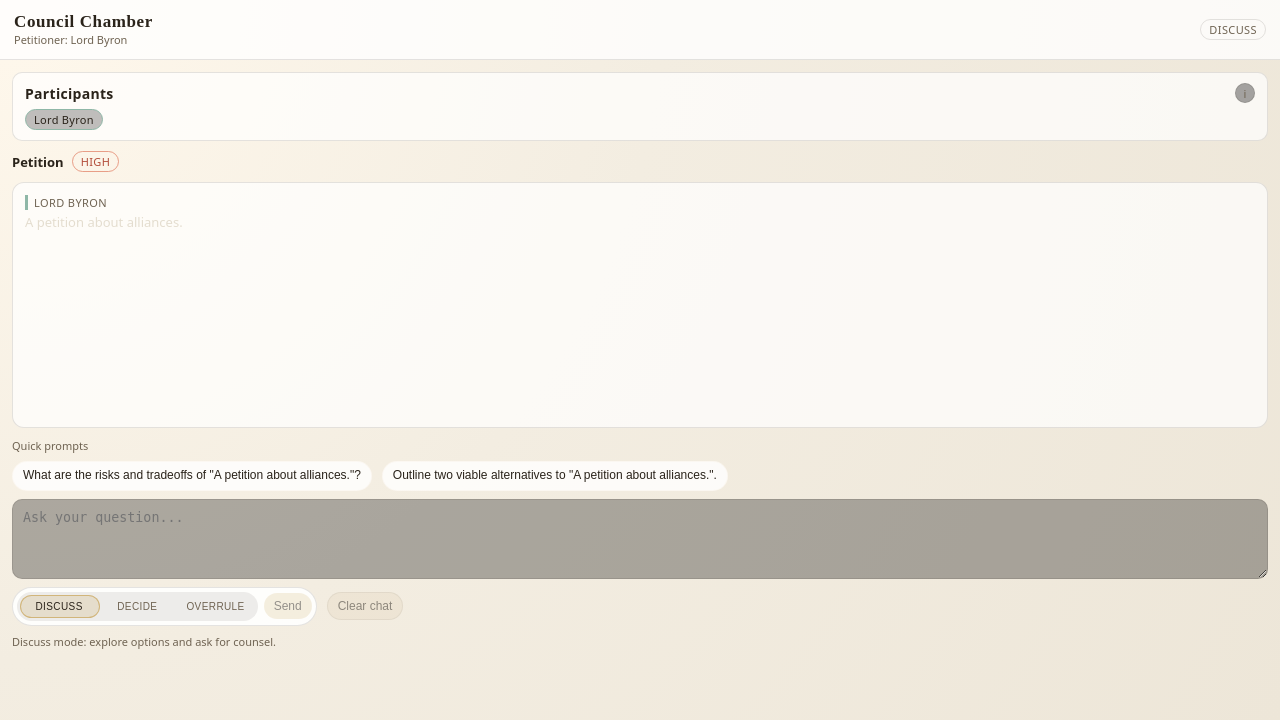
Scenario: ChatPanel › clears the chat back to the petition message
Expected: the heading "Council Chamber" is shown, [14,12,153,32]
In the text box: (640, 539) [12,499,1268,579], type "We should proceed."
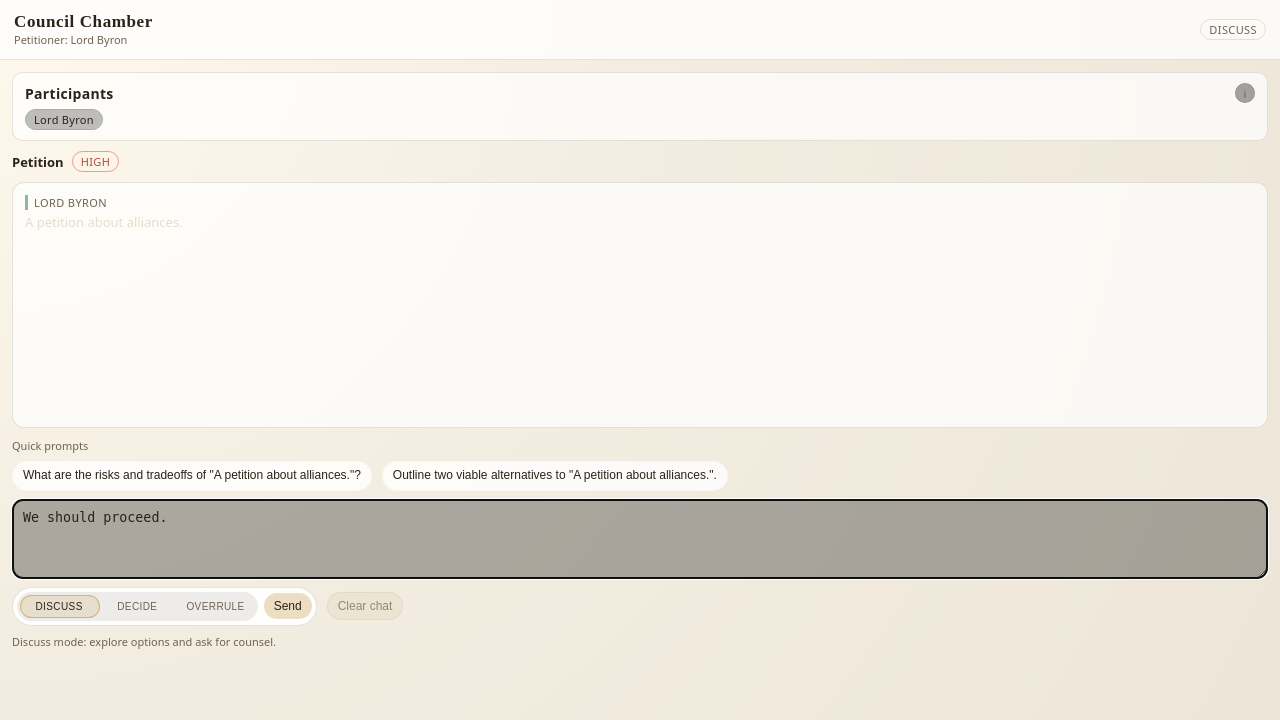
Click the button "Send": (288, 606) [264,593,312,619]
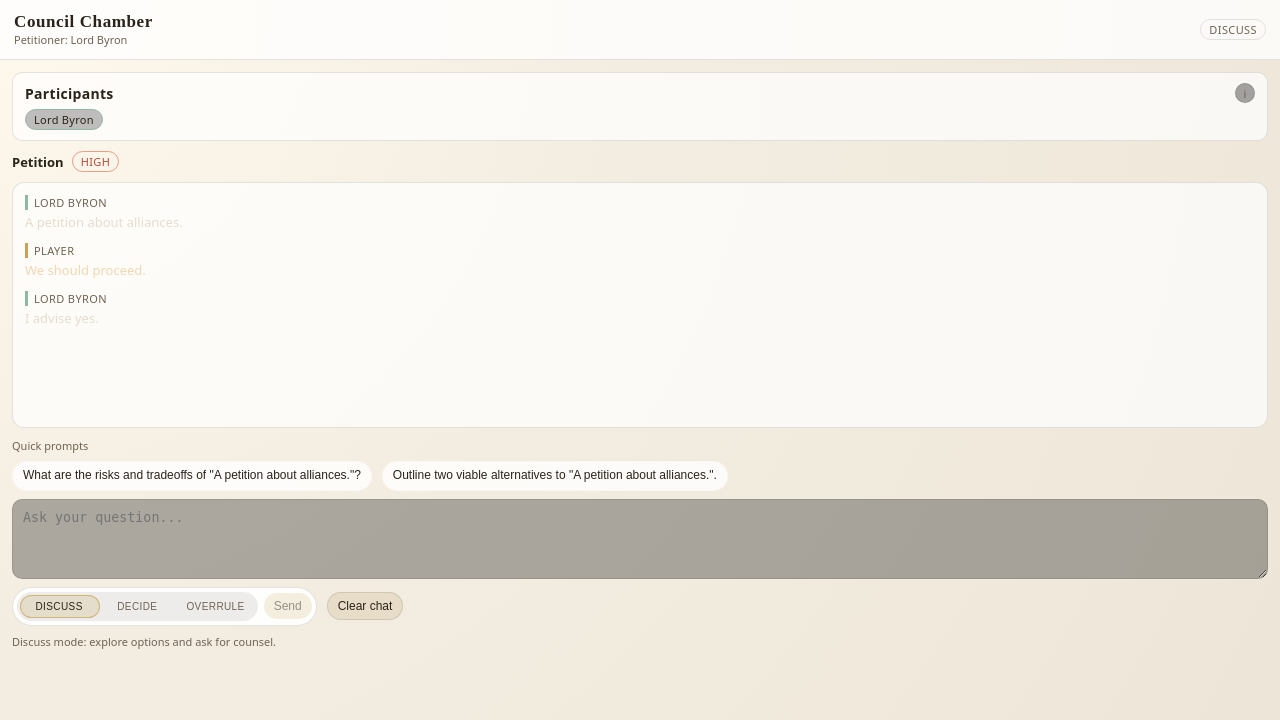
Result: the text "I advise yes." is shown at [25,309,99,327]
Result: the button "Clear chat" is enabled
Click the button "Clear chat": (365, 606) [327,592,403,620]
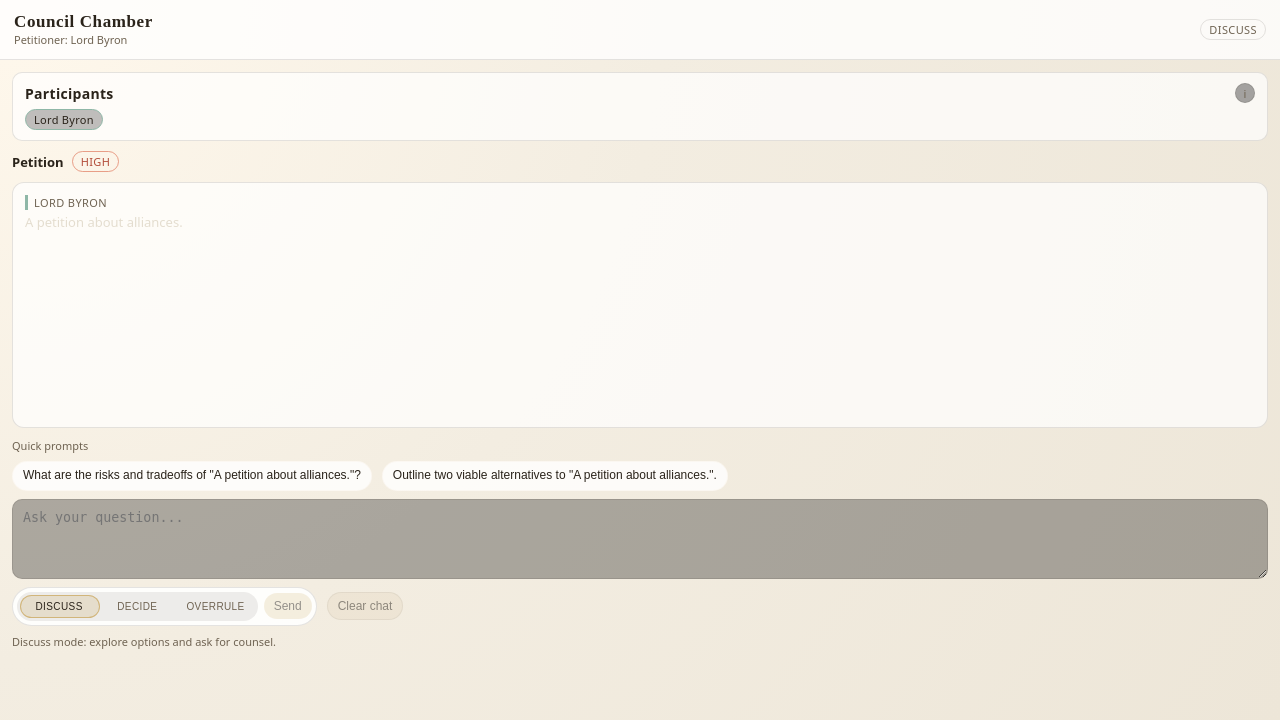
Expected: the text "A petition about alliances." is shown, [25,213,183,231]
Result: the text "I advise yes." is gone
